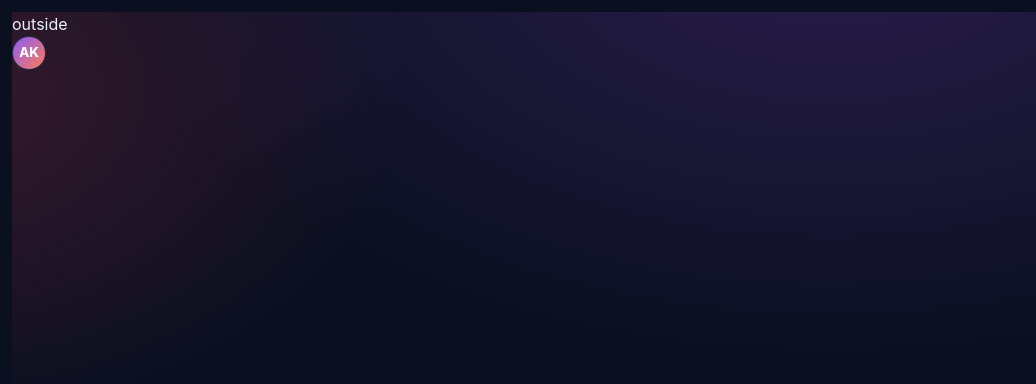
it: <AccountMenu> › closes on Escape and on outside click
This screenshot has width=1036, height=384.
Click the button with aria-label "account menu".
click(29, 53)  # box [12, 36, 46, 70]
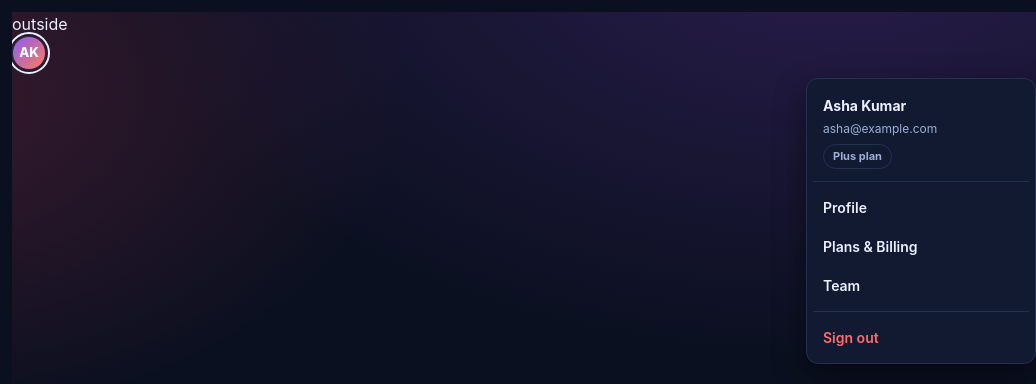
Press Escape
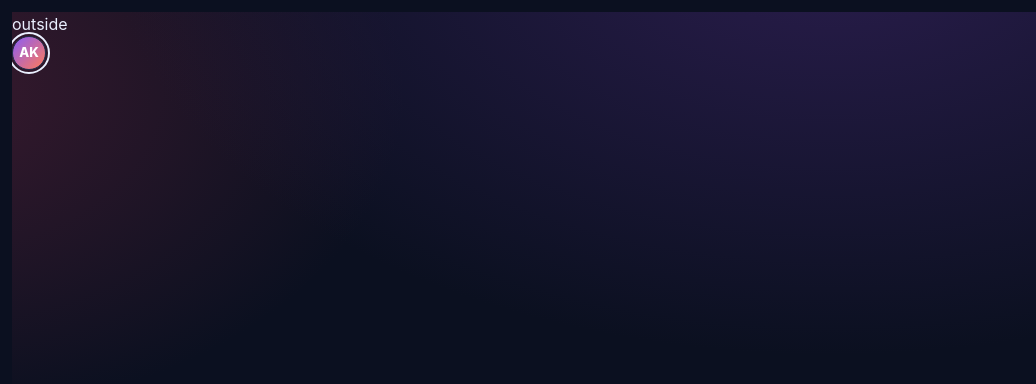
Now the menu is gone
Click the button with aria-label "account menu".
click(29, 53)  # box [12, 36, 46, 70]
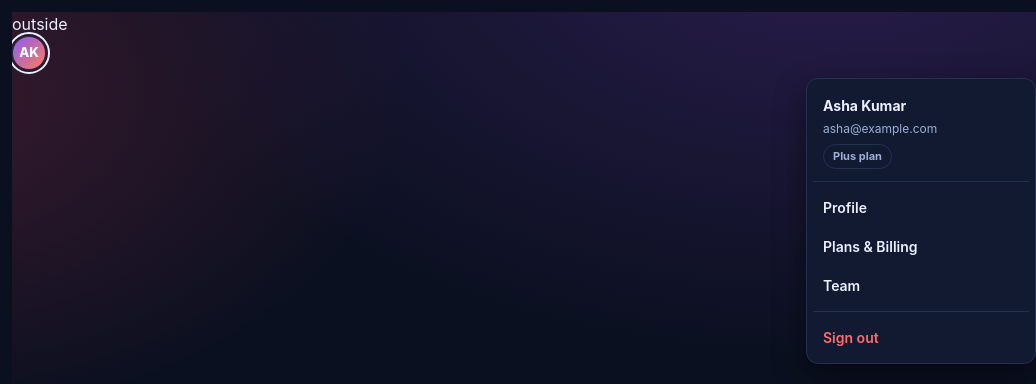
Click the text "outside".
click(40, 24)  # box [12, 14, 68, 34]
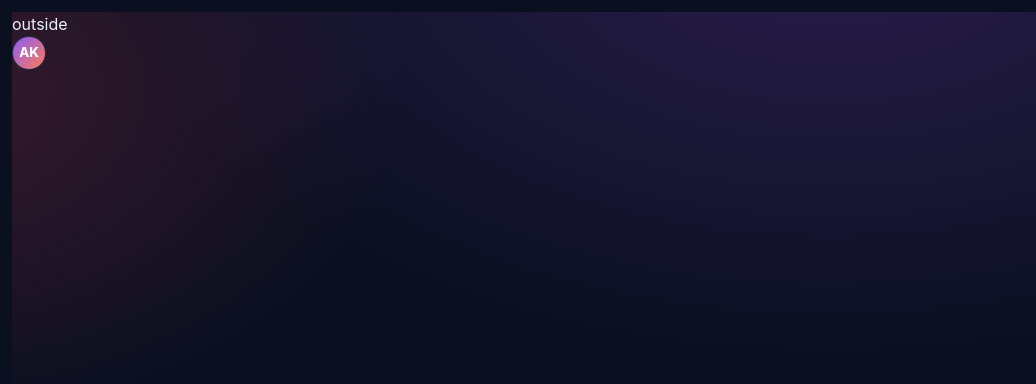
Now the menu is gone
